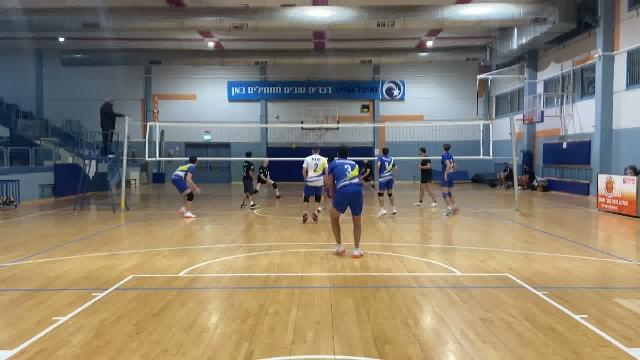ball: (291, 141, 296, 149)
